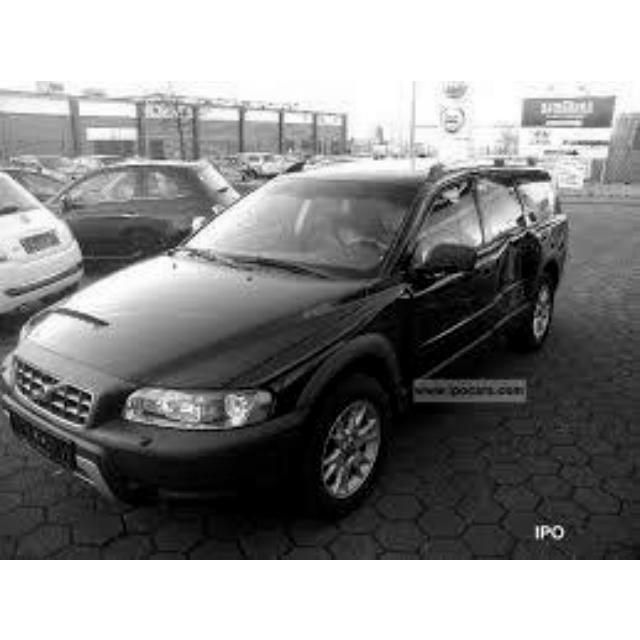doorouter-dent: (483, 241, 542, 315)
